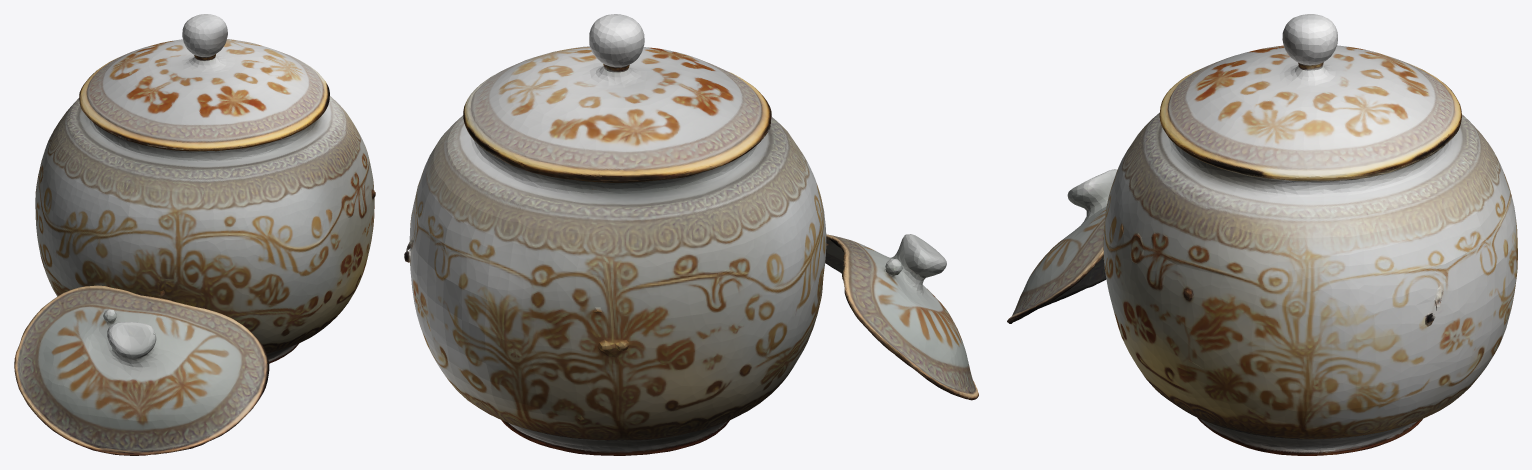
File: porcelain-biscuit-jar-3d.jpeg.glb
3 renders of one model, left to right at view 1: azimuth 30°, elevation 25°; view 2: azimuth 150°, elevation 25°; view 3: azimuth 270°, elevation 25°, orthographic. The views are drawn at different scales.
Visible parts, largest first — view 1: world; view 2: world; view 3: world.
Part boxes in pixels (x1=…): world: x1=14, y1=14, x2=375, y2=455; world: x1=404, y1=14, x2=978, y2=455; world: x1=1007, y1=14, x2=1517, y2=455.
Bounding box in the file's own units: 0.9972 × 0.8047 × 0.9559.
1 material, 1 textured.
